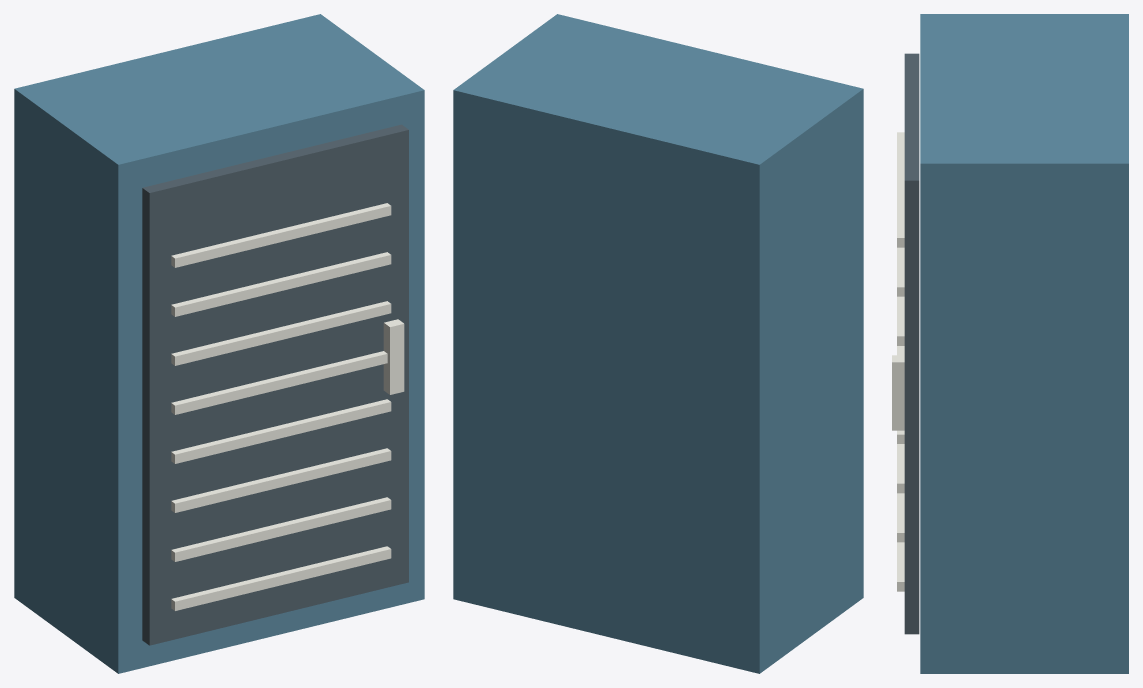
The model's file is american-football-stadium-kit-ball-drying-cabinet-b5886bc7__22346.glb.
3 renders of one model, left to right at view 1: azimuth 30°, elevation 25°; view 2: azimuth 150°, elevation 25°; view 3: azimuth 270°, elevation 25°, orthographic.
Parts seen in each view (by area): view 1: ball-drying-cabinet; view 2: ball-drying-cabinet; view 3: ball-drying-cabinet.
Part boxes in pixels (box(x1,y1,x2,y2)): ball-drying-cabinet: box(14, 14, 424, 673); ball-drying-cabinet: box(453, 14, 863, 673); ball-drying-cabinet: box(892, 14, 1128, 673).
Bounding box in the file's own units: 0.85 × 1.35 × 0.5675.
